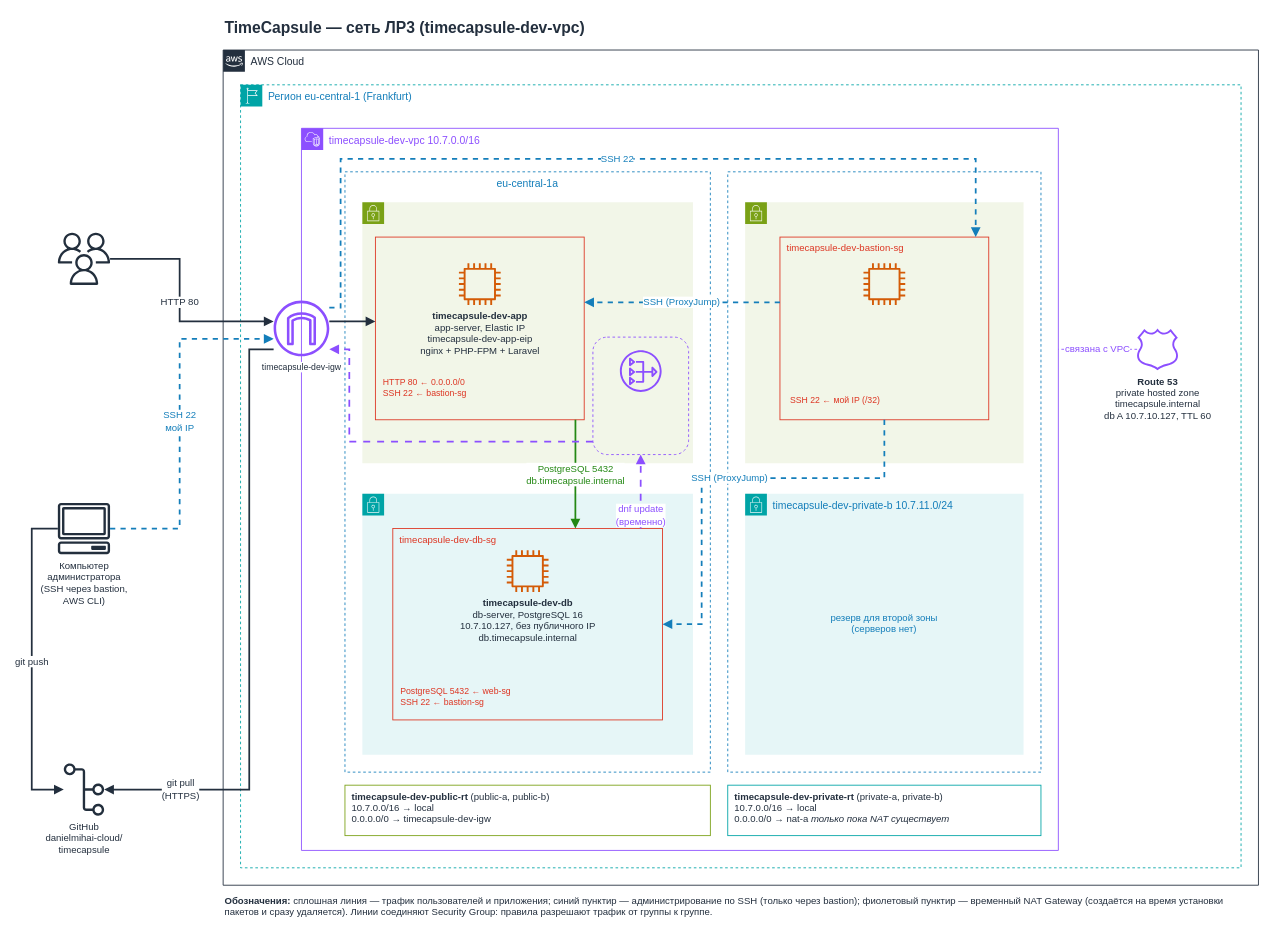
This 1274x934 diagram has some shape labels left out. Each missing label, with the box of its shape:
eu-central-1b: (727, 171, 1041, 772)
timecapsule-dev-bastion публичный IP (меняется после запуска): (863, 263, 905, 304)
timecapsule-dev-nat-a временный + nat-a-eip: (619, 350, 661, 392)
timecapsule-dev-private-a 10.7.10.0/24: (361, 493, 693, 755)
timecapsule-dev-public-a 10.7.0.0/24: (361, 201, 693, 463)
timecapsule-dev-public-b 10.7.1.0/24: (744, 201, 1024, 463)
timecapsule-dev-web-sg: (375, 236, 584, 420)
Пользователи (браузер): (57, 232, 110, 284)
